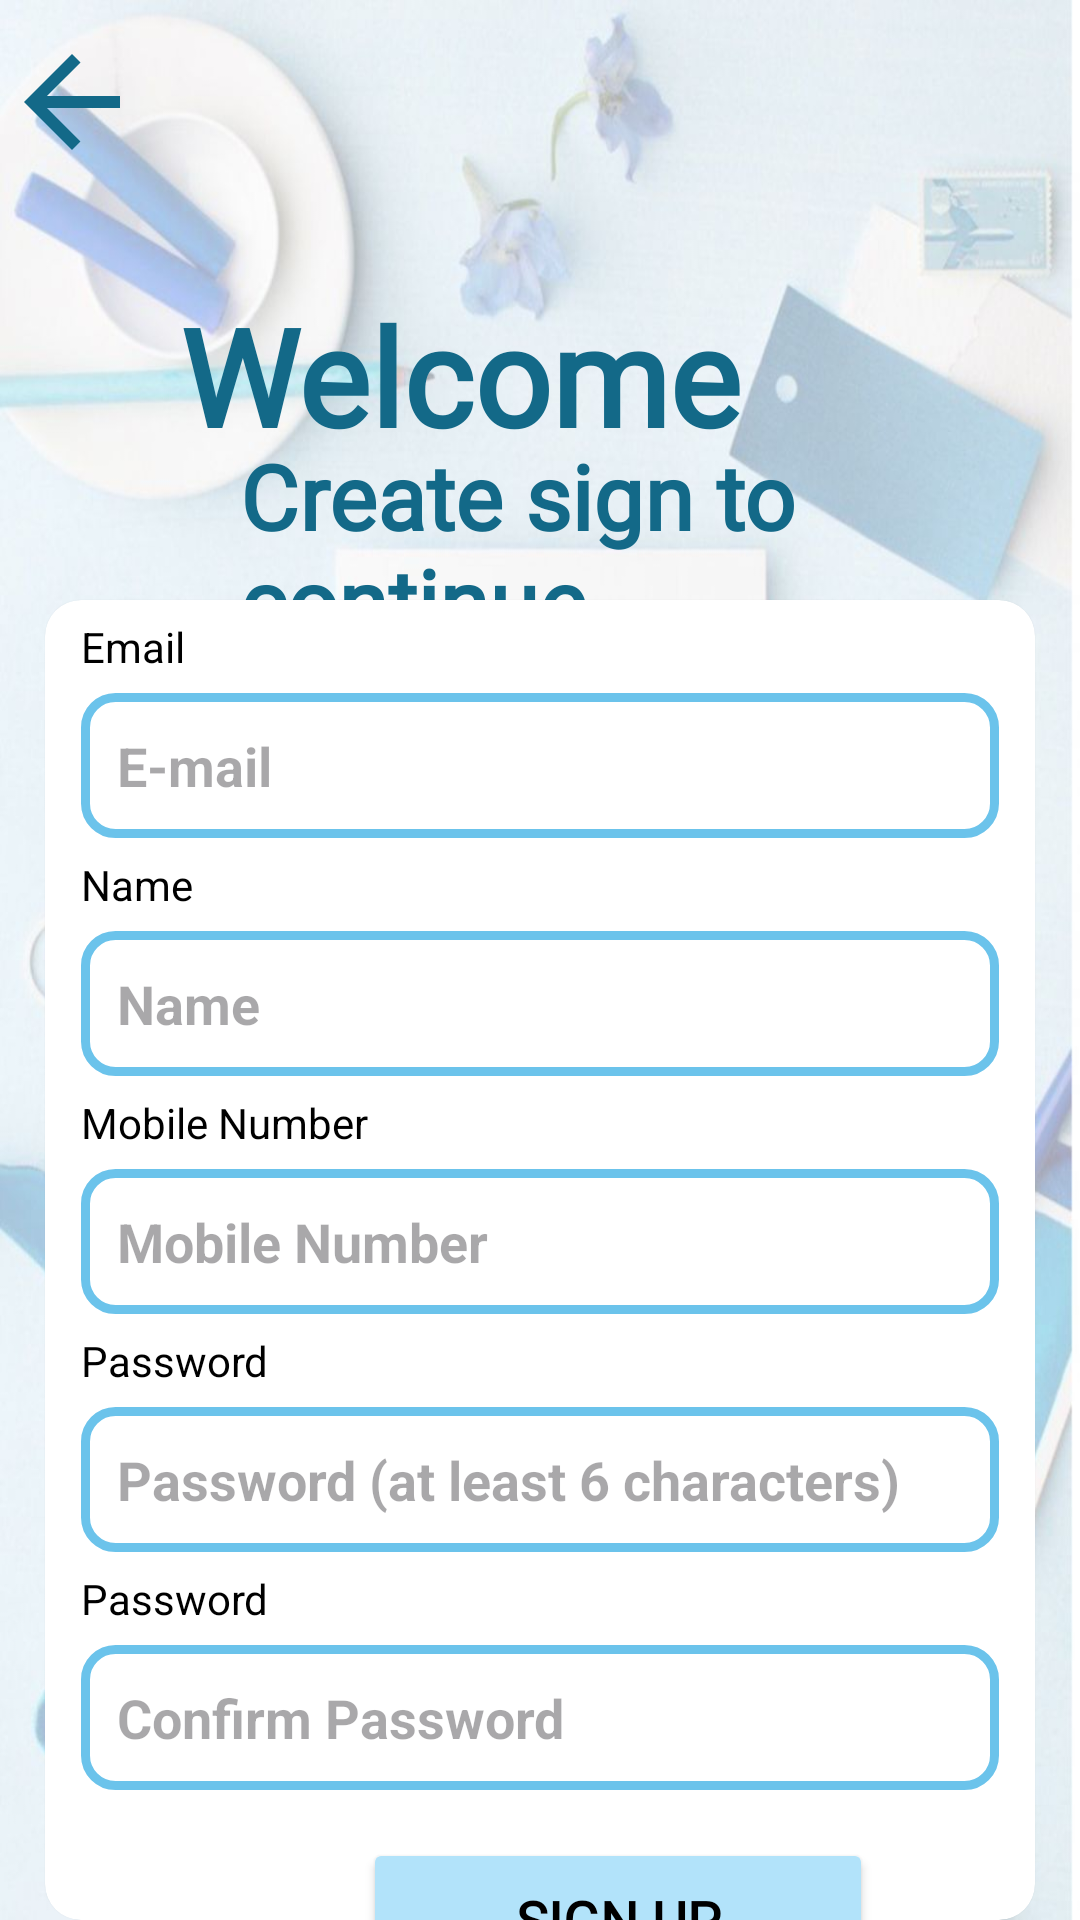

Point at icon controls on the screen. Image size 1080 × 1920, points as (x=x, y=y).
arrow back brown: (x=84, y=114)
